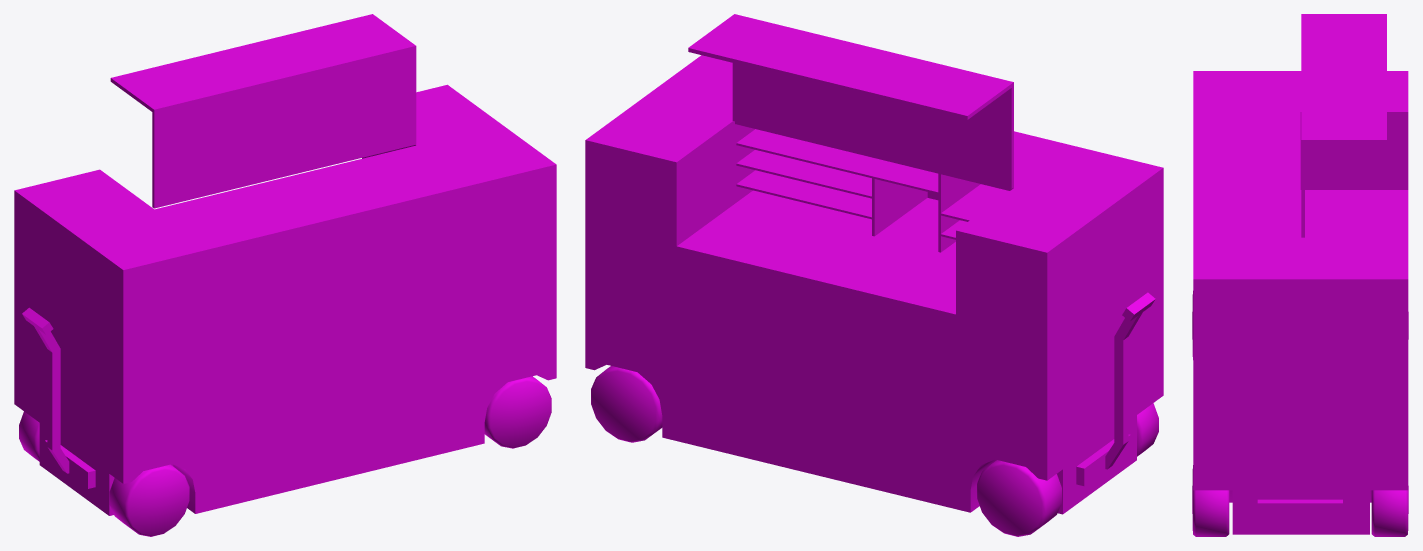
The model's file is Wagon_Large.fbx.
The picture shows the model from 3 angles, left to right: view 1: azimuth 30°, elevation 25°; view 2: azimuth 150°, elevation 25°; view 3: azimuth 270°, elevation 25°; orthographic projection. The views are drawn at different scales.
Visible parts, largest first — view 1: Wagon_Large; view 2: Wagon_Large; view 3: Wagon_Large.
Boxes of the visible parts, bbox=[...] form: Wagon_Large: bbox=[14, 14, 556, 536]; Wagon_Large: bbox=[585, 14, 1163, 536]; Wagon_Large: bbox=[1192, 14, 1408, 536].
Bounding box in the file's own units: 189 × 143 × 76.08.
